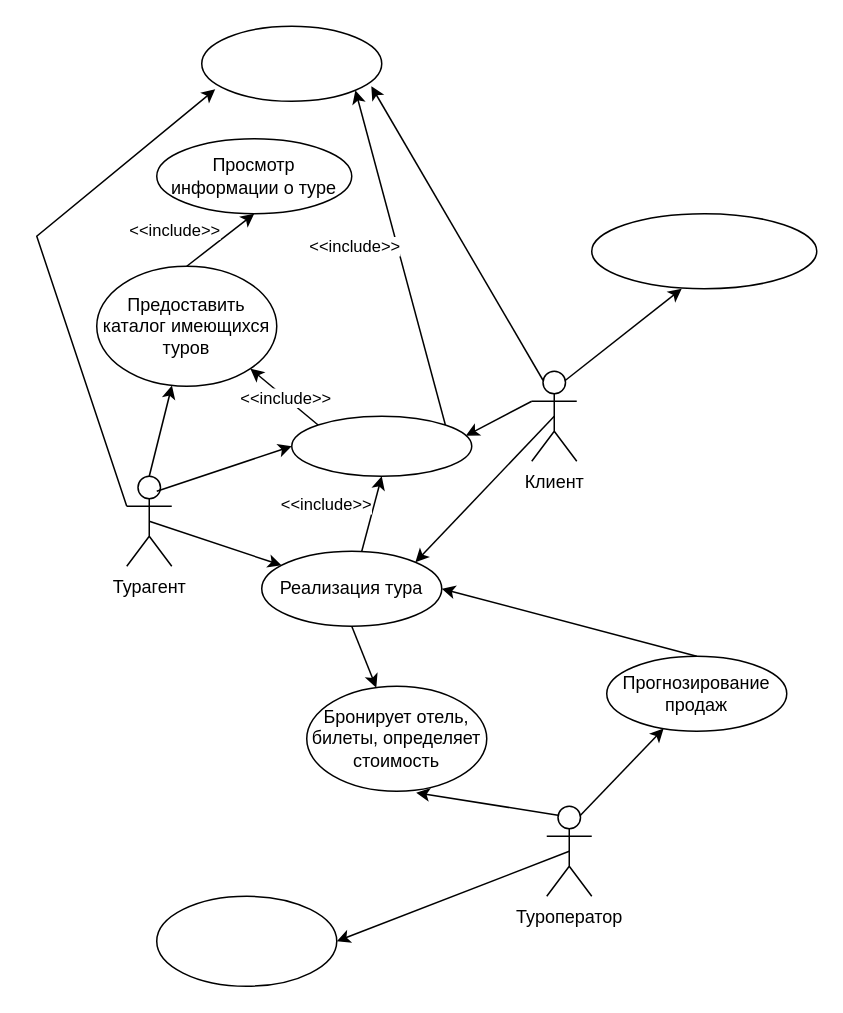
Image size: 843x1013. Some labels were removed from this diagram. Here are the shapes that lost their labels. From the top down, the box of each, then its label:
(200, 25, 382, 101): Оформление договора
(590, 212, 817, 289): Оставить пожелания на сайте
(290, 415, 472, 476): Бронирование тура
(155, 895, 337, 986): Добавление тура в каталог
